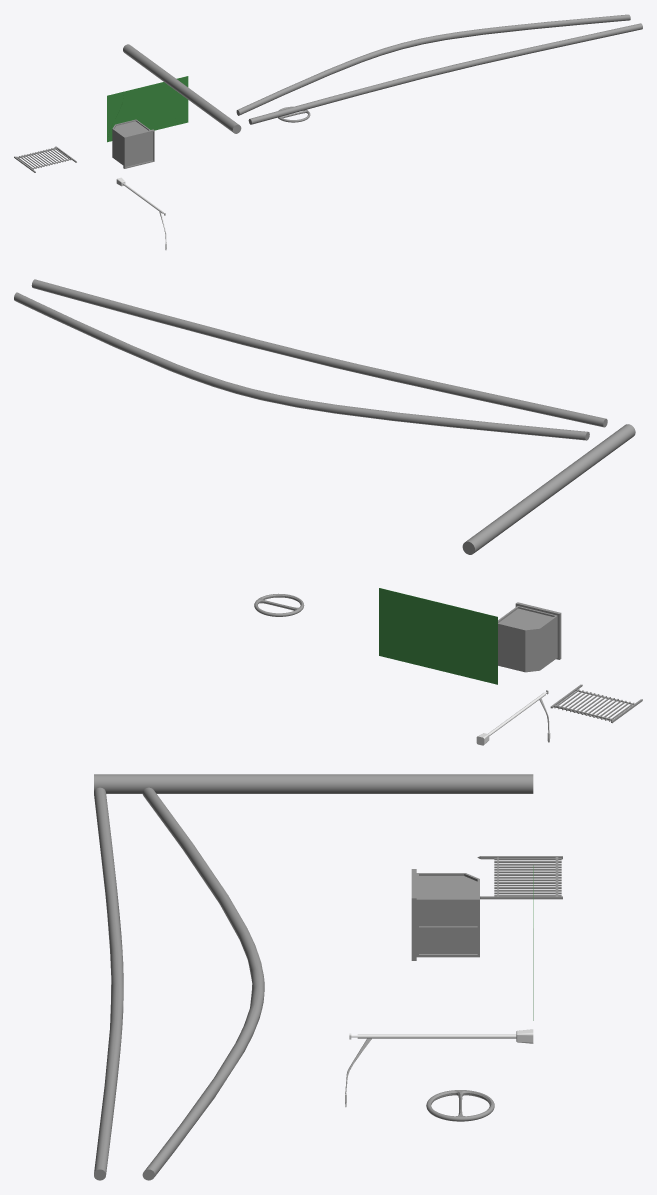
Rendered from ps122_building_assets v2.fbx.
The picture shows the model from 3 angles, top to bottom: view 1: azimuth 30°, elevation 25°; view 2: azimuth 150°, elevation 25°; view 3: azimuth 270°, elevation 25°; orthographic projection. The views are drawn at different scales.
Visible parts, largest first — view 1: Body2, Body5, Body6, Body3, Body4, Body1; view 2: Body2, Body5, Body6, Body3, Body4, Body1; view 3: Body4, Body3, Body6, Body5, Body1, Body7, Body8.
Boxes of the visible parts, <box> form: Body2: <box>107,76,188,142</box>; Body5: <box>248,23,642,124</box>; Body6: <box>236,14,630,115</box>; Body3: <box>112,119,154,168</box>; Body4: <box>123,44,241,133</box>; Body1: <box>14,146,76,172</box>; Body2: <box>379,588,497,684</box>; Body5: <box>31,279,607,427</box>; Body6: <box>14,292,589,440</box>; Body3: <box>498,602,561,672</box>; Body4: <box>462,424,635,554</box>; Body1: <box>550,684,642,723</box>; Body4: <box>94,774,533,793</box>; Body3: <box>411,869,479,960</box>; Body6: <box>142,787,264,1180</box>; Body5: <box>94,787,123,1180</box>; Body1: <box>477,856,562,899</box>; Body7: <box>345,1029,533,1107</box>; Body8: <box>426,1090,494,1121</box>.
Size of the model in its own units: 2420 by 772 by 961.
